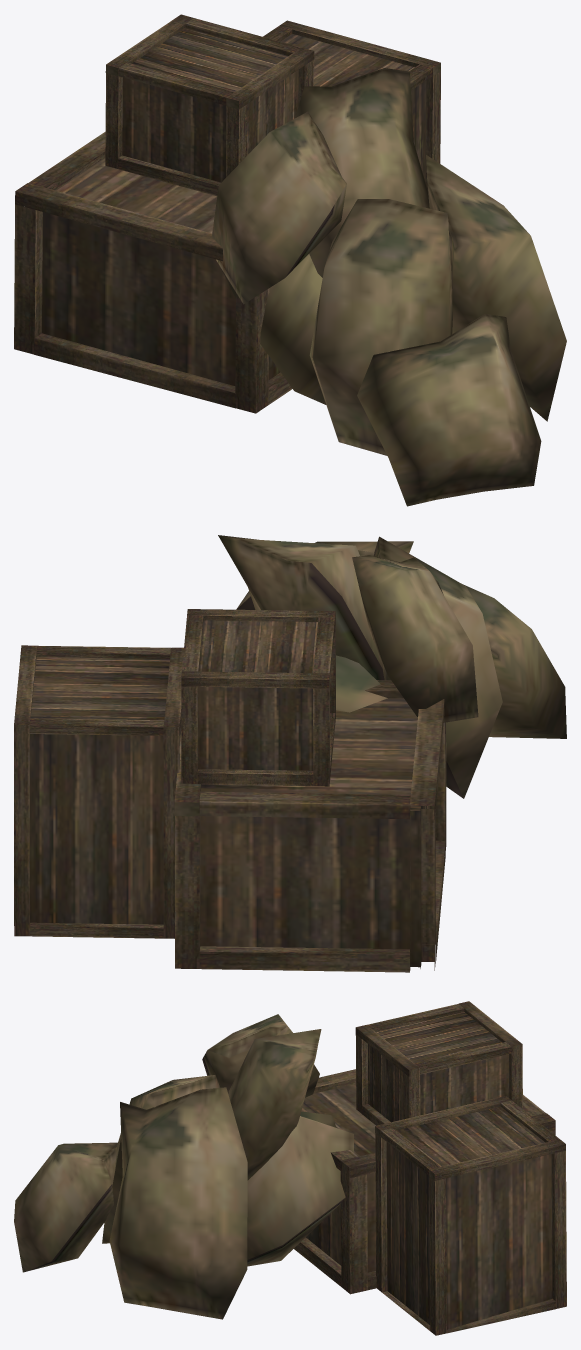
File: pve_wujianA_uv5.FBX
The picture shows the model from 3 angles, top to bottom: view 1: azimuth 30°, elevation 25°; view 2: azimuth 150°, elevation 25°; view 3: azimuth 270°, elevation 25°; orthographic projection. The views are drawn at different scales.
Visible parts, largest first — view 1: s7_maocaofang_d; view 2: s7_maocaofang_d; view 3: s7_maocaofang_d.
Boxes of the visible parts, x1,y1,x2,y2 form: s7_maocaofang_d: (14,14,566,506); s7_maocaofang_d: (14,535,566,972); s7_maocaofang_d: (14,1001,566,1335).
Size of the model in its own units: 148 by 96.17 by 212.
